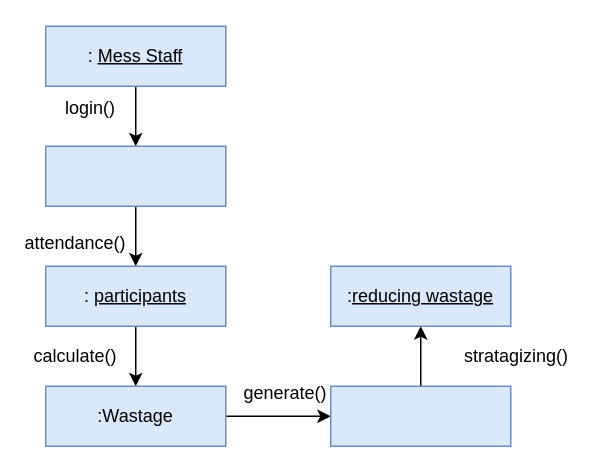
This 594x473 diagram has some shape labels left out. The centre of each missing label's shape, as x and y in pixels:
": Interface" goes at point (135, 175).
": Report" goes at point (420, 415).
